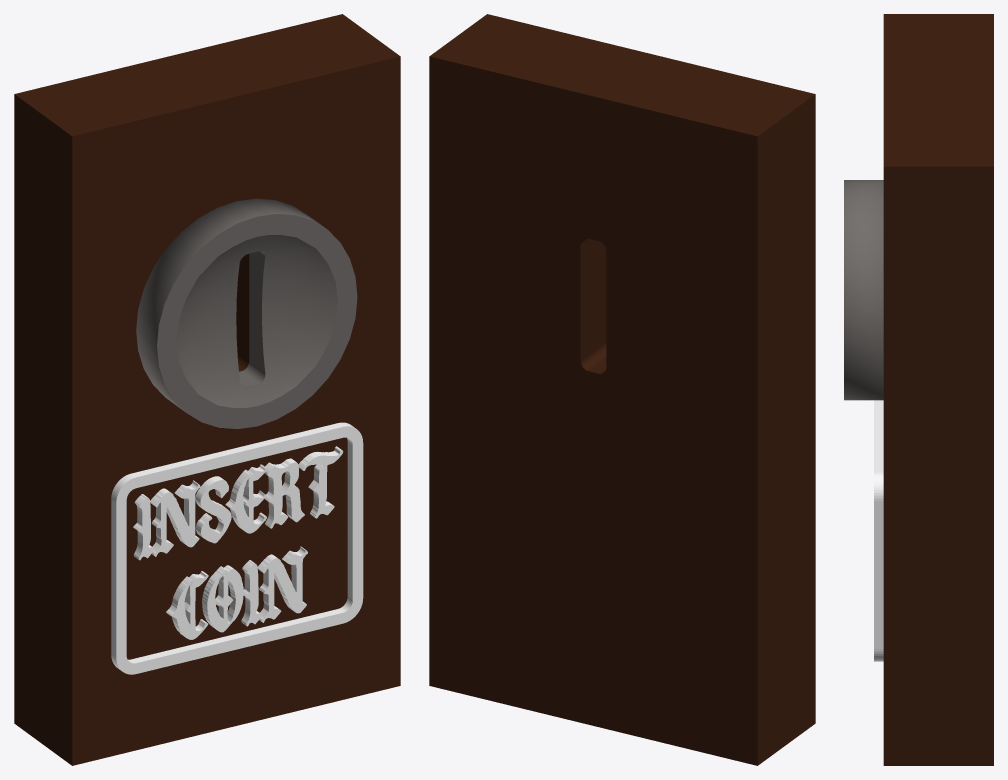
Rendered from Coin_Slot_V1.fbx.
3 renders of one model, left to right at view 1: azimuth 30°, elevation 25°; view 2: azimuth 150°, elevation 25°; view 3: azimuth 270°, elevation 25°, orthographic. The views are drawn at different scales.
Visible parts, largest first — view 1: Coin Slot V1; view 2: Coin Slot V1; view 3: Coin Slot V1.
Part boxes in pixels (box(x1,y1,x2,y2)): Coin Slot V1: box(14, 14, 400, 765); Coin Slot V1: box(429, 14, 815, 765); Coin Slot V1: box(844, 14, 993, 765).
Bounding box in the file's own units: 6.8 × 16.37 × 30.
